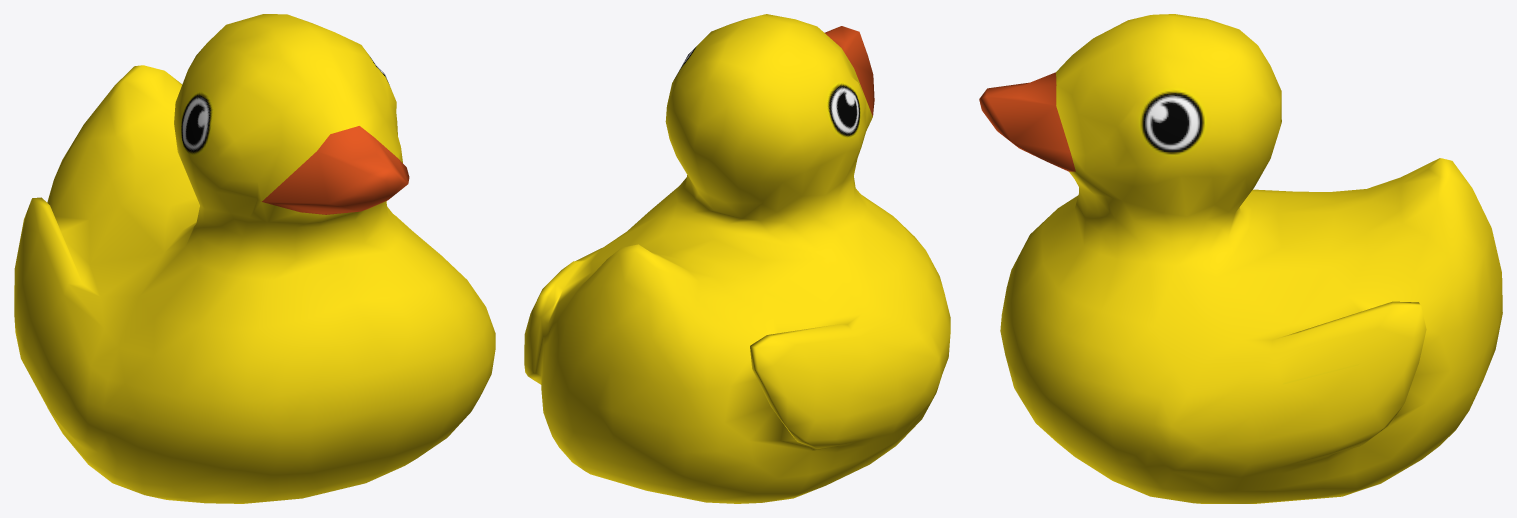
File: RubberDucky.fbx
3 renders of one model, left to right at view 1: azimuth 30°, elevation 25°; view 2: azimuth 150°, elevation 25°; view 3: azimuth 270°, elevation 25°, orthographic. The views are drawn at different scales.
Parts seen in each view (by area): view 1: Object; view 2: Object; view 3: Object.
Part boxes in pixels (x1=…): Object: x1=14, y1=14, x2=495, y2=503; Object: x1=524, y1=14, x2=950, y2=503; Object: x1=979, y1=14, x2=1502, y2=503.
Bounding box in the file's own units: 130 × 141 × 156.
